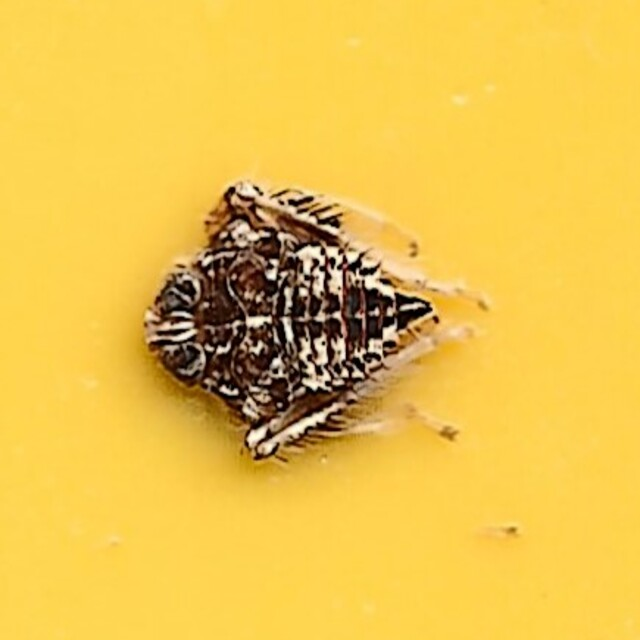Hemiptera: (147, 180, 493, 460)
